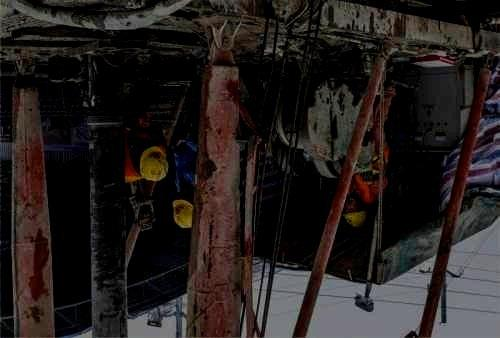helmet: (140, 146, 168, 182), (172, 189, 194, 228), (343, 194, 366, 228)
